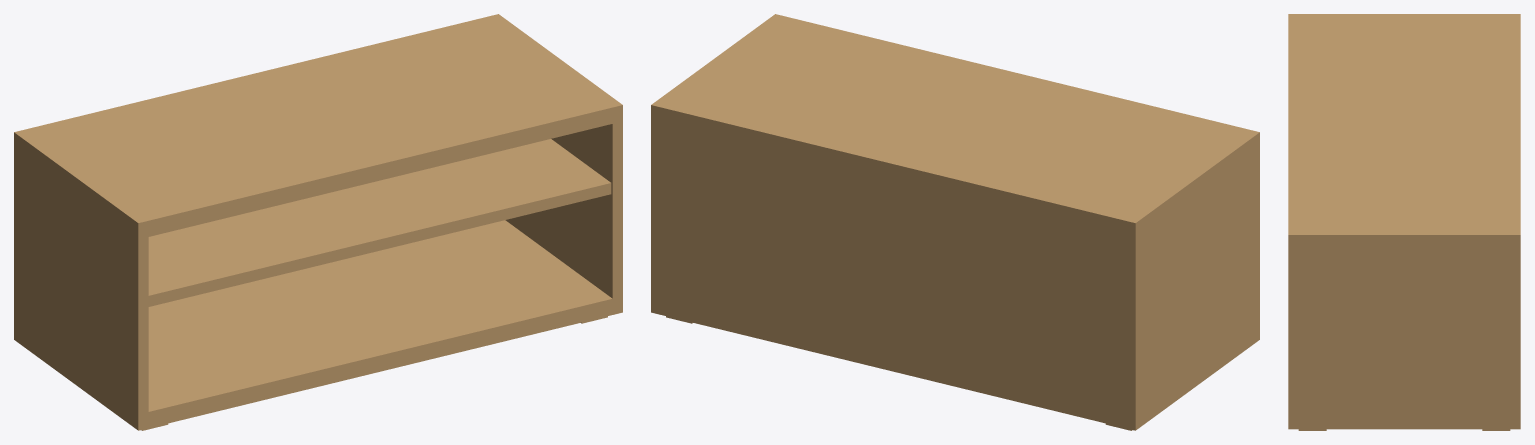
The model's file is tvcabinet5.fbx.
3 renders of one model, left to right at view 1: azimuth 30°, elevation 25°; view 2: azimuth 150°, elevation 25°; view 3: azimuth 270°, elevation 25°, orthographic. The views are drawn at different scales.
Parts seen in each view (by area): view 1: tvCabinet5; view 2: tvCabinet5; view 3: tvCabinet5.
Boxes of the visible parts, x1,y1,x2,y2 form: tvCabinet5: (14, 14, 622, 430); tvCabinet5: (651, 14, 1259, 430); tvCabinet5: (1288, 14, 1520, 430).
Size of the model in its own units: 90 by 38 by 40.
